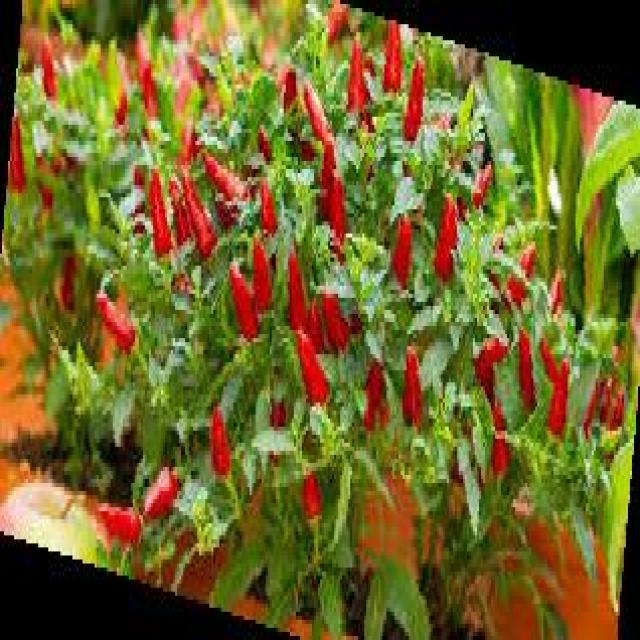Panama: (138, 124, 184, 296), (218, 248, 285, 348), (429, 159, 473, 311), (380, 188, 420, 309)
